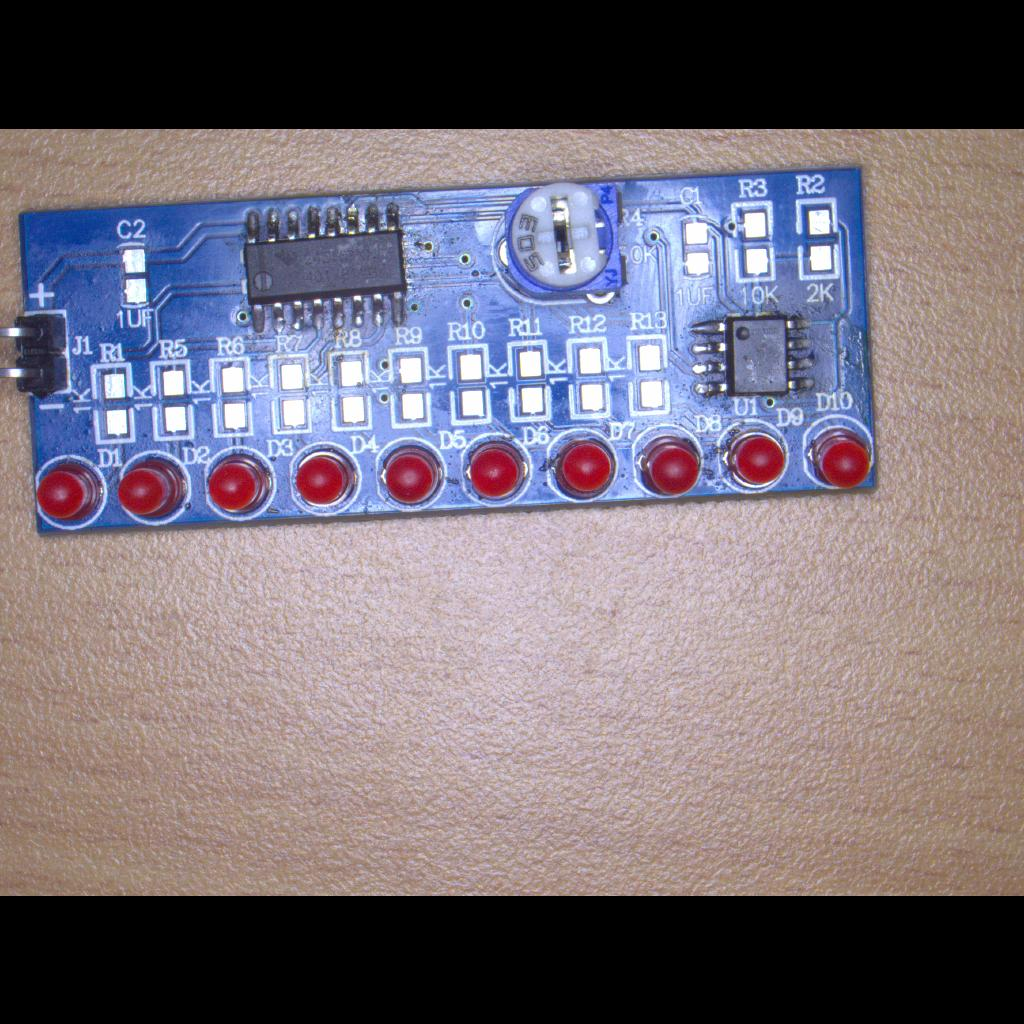NG: (498, 334, 558, 424), (728, 198, 784, 286), (86, 357, 140, 447), (790, 194, 844, 282), (564, 330, 614, 424), (146, 353, 198, 443), (204, 350, 254, 440), (264, 350, 316, 436), (384, 344, 436, 430), (442, 342, 494, 428), (624, 331, 674, 419), (326, 350, 374, 434), (110, 236, 162, 312), (674, 211, 720, 287)
OK: (236, 202, 418, 340), (686, 314, 824, 404)
